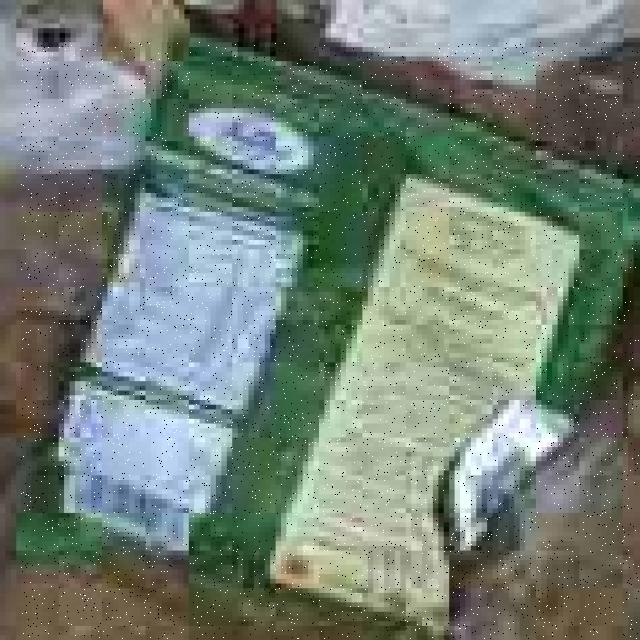wrapper: (22, 43, 639, 640)
